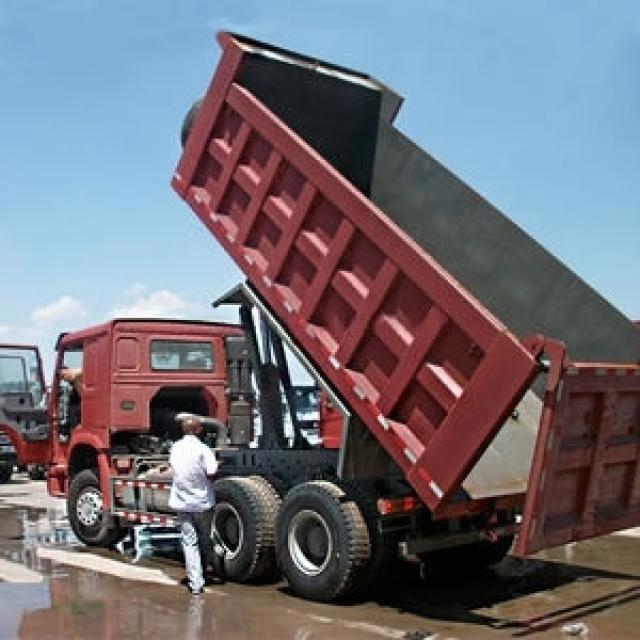truck: (12, 32, 640, 599)
